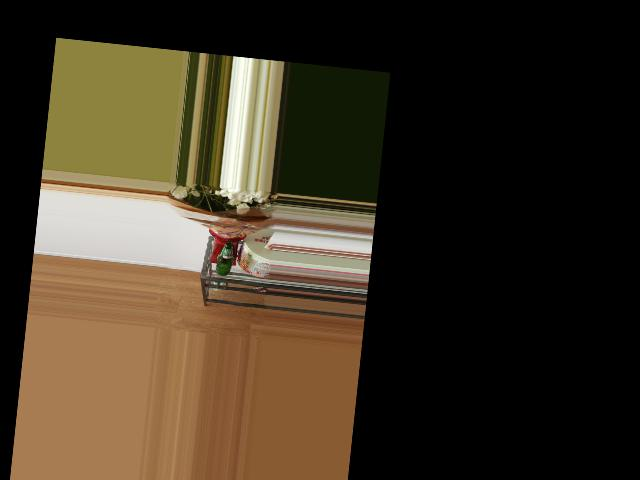beer: (215, 241, 236, 277)
